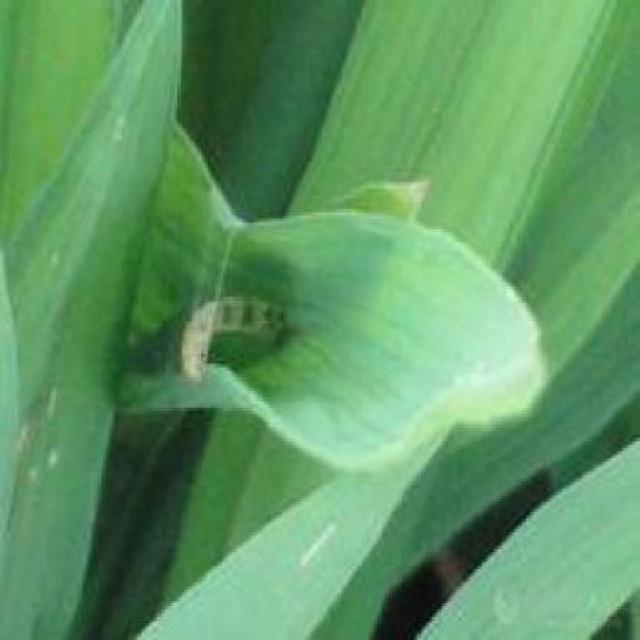leaf-folder: (160, 258, 322, 399)
